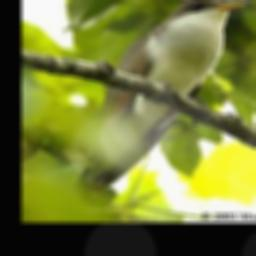Cuckoo: (69, 0, 254, 201)
